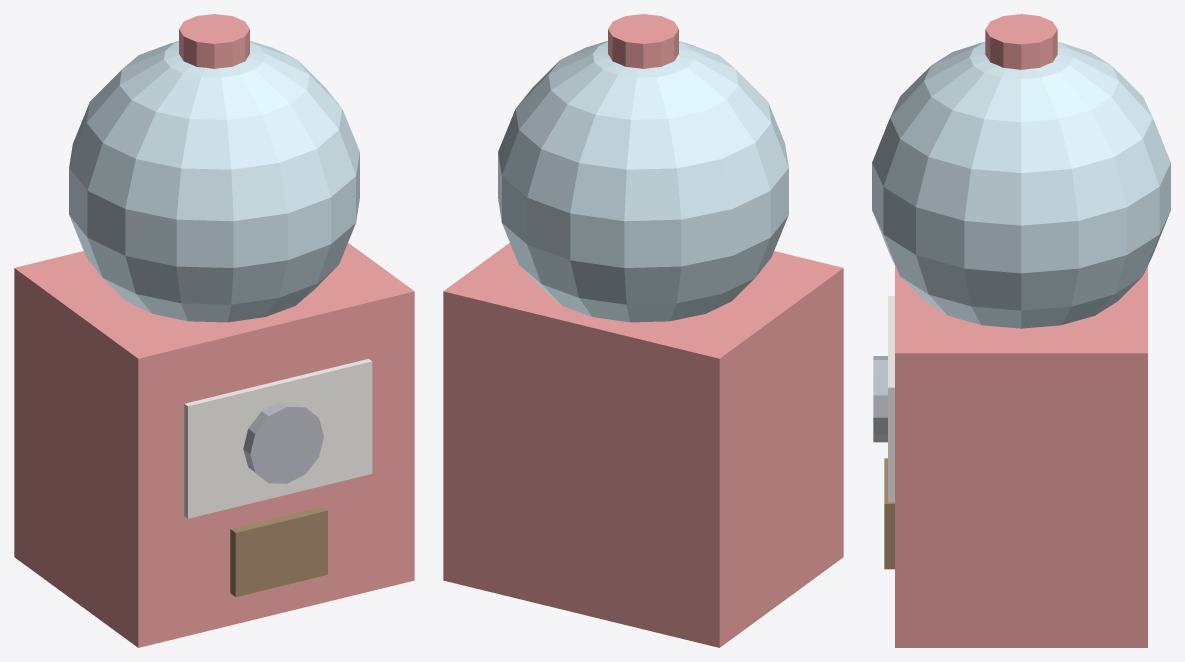
Rendered from VGacha.fbx.
3 views of the same model, side by side, from view 1: azimuth 30°, elevation 25°; view 2: azimuth 150°, elevation 25°; view 3: azimuth 270°, elevation 25° (orthographic).
Parts seen in each view (by area): view 1: VGacha; view 2: VGacha; view 3: VGacha.
Boxes of the visible parts, x1,y1,x2,y2 form: VGacha: (14,14,414,647); VGacha: (443,14,843,647); VGacha: (872,14,1170,647).
Bounding box in the file's own units: 0.9 × 1.68 × 0.8272.
